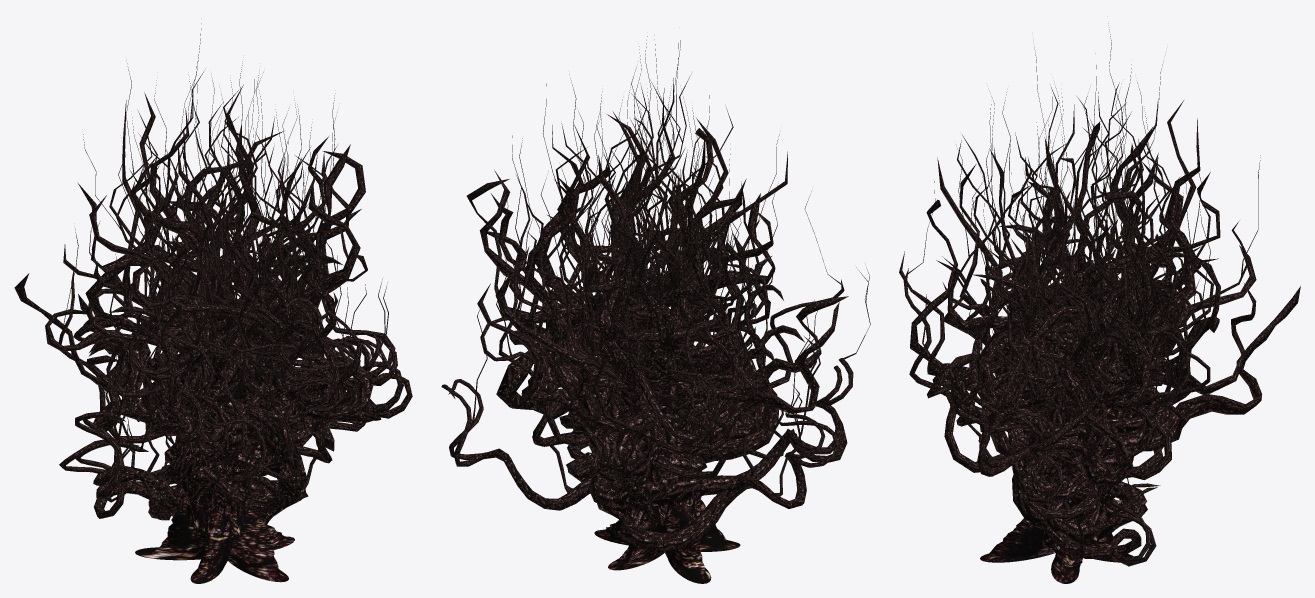
The model's file is tree7.fbx.
3 renders of one model, left to right at view 1: azimuth 30°, elevation 25°; view 2: azimuth 150°, elevation 25°; view 3: azimuth 270°, elevation 25°, orthographic.
Parts seen in each view (by area): view 1: bark13_0; view 2: bark13_0; view 3: bark13_0.
Part boxes in pixels (bbox=[...]): bark13_0: bbox=[14, 23, 412, 583]; bark13_0: bbox=[441, 36, 870, 583]; bark13_0: bbox=[899, 23, 1300, 583].
Bounding box in the file's own units: 934 × 1325 × 903.
Materials: 1 (1 with a texture image).
